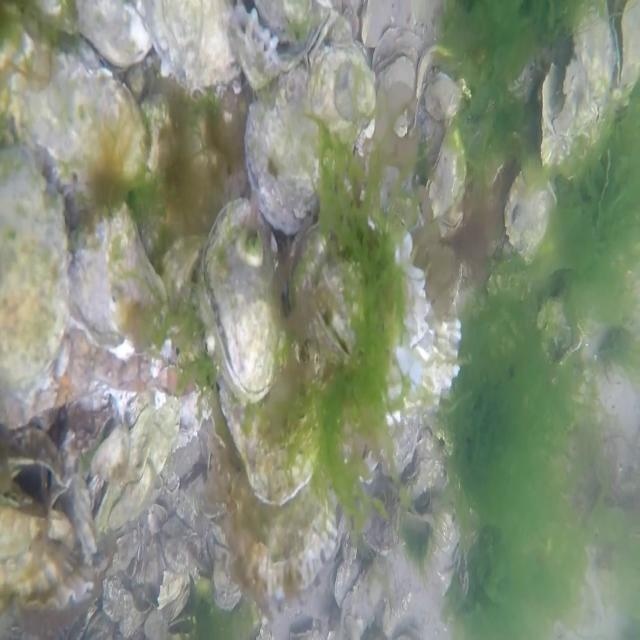Oyster-Closed: (244, 40, 376, 236), (0, 144, 71, 432), (7, 46, 149, 185), (198, 199, 282, 406), (64, 200, 167, 357), (223, 0, 333, 83), (70, 0, 154, 72), (505, 159, 556, 261), (425, 116, 468, 234), (398, 458, 432, 504)
Oyster-Indeterminate: (294, 205, 461, 424), (215, 297, 326, 504), (225, 422, 339, 601), (539, 0, 614, 168), (99, 401, 180, 530), (132, 0, 240, 91), (0, 542, 94, 614), (0, 490, 75, 565), (355, 464, 402, 556), (417, 44, 461, 132), (342, 560, 386, 640), (211, 520, 243, 610), (379, 415, 422, 474)
Oyster-Open: (0, 426, 71, 520), (373, 44, 417, 122), (611, 0, 640, 83), (329, 554, 361, 606), (401, 495, 434, 533)
